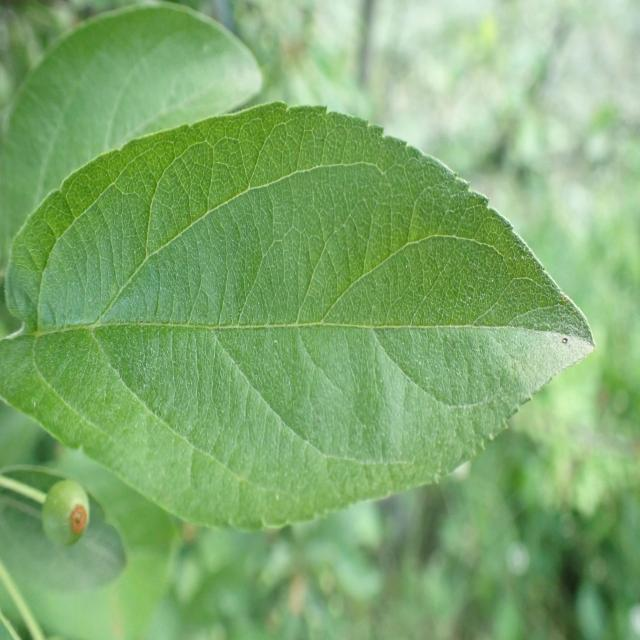healthy: (0, 101, 598, 533), (0, 1, 264, 328)
